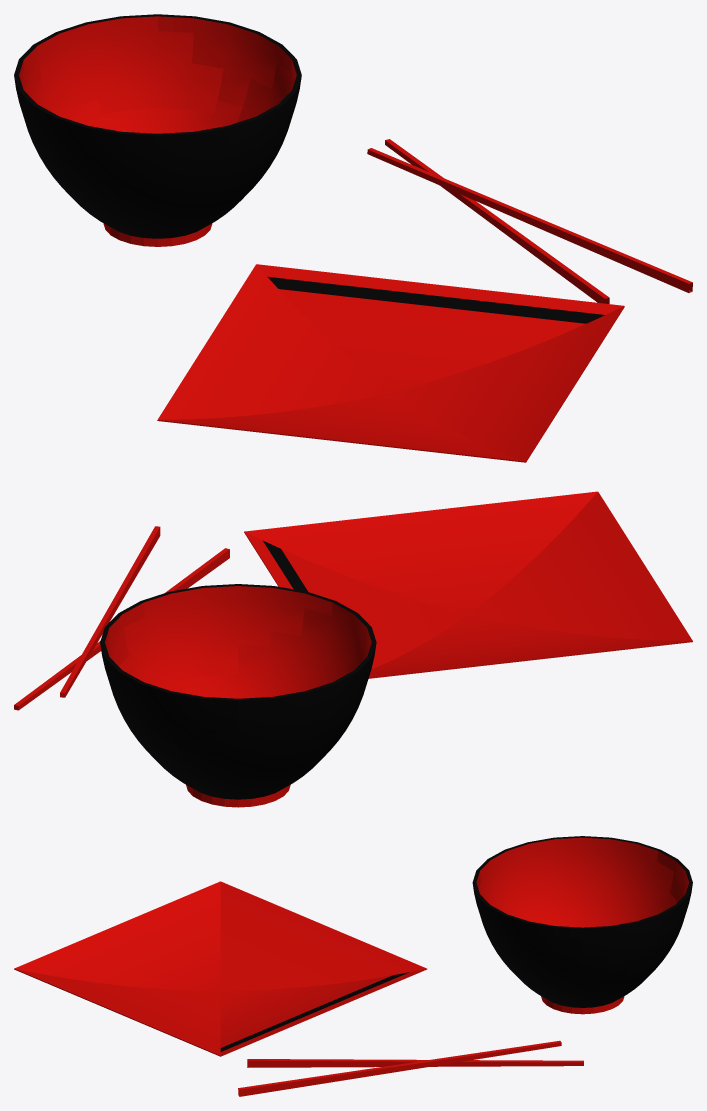
File: Plate.FBX
3 renders of one model, top to bottom at view 1: azimuth 30°, elevation 25°; view 2: azimuth 150°, elevation 25°; view 3: azimuth 270°, elevation 25°, orthographic. The views are drawn at different scales.
Visible parts, largest first — view 1: Layer0_001; view 2: Layer0_001; view 3: Layer0_001.
Part boxes in pixels (bbox=[...]): Layer0_001: bbox=[14, 14, 692, 462]; Layer0_001: bbox=[14, 491, 692, 807]; Layer0_001: bbox=[14, 836, 692, 1096].
Bounding box in the file's own units: 333 × 86.5 × 467.
